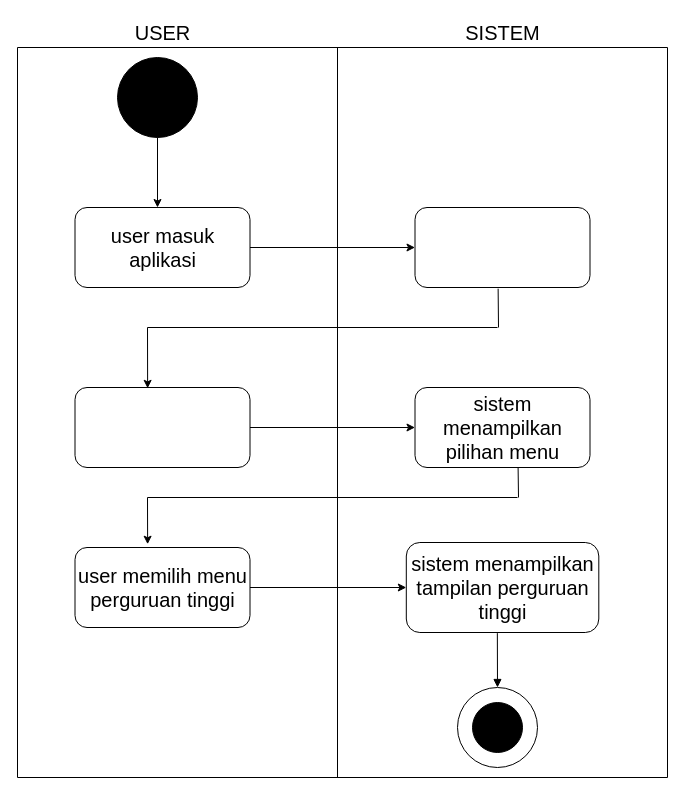
This 686x796 diagram has some shape labels left out. The shapes that lost their labels are listed below. From the top down, each one's centre as x and y in pixels, then its label:
At pixel 502 247: "sistem menampilkan tampilan profil".
At pixel 162 427: "User meng-klik tombol menu".
